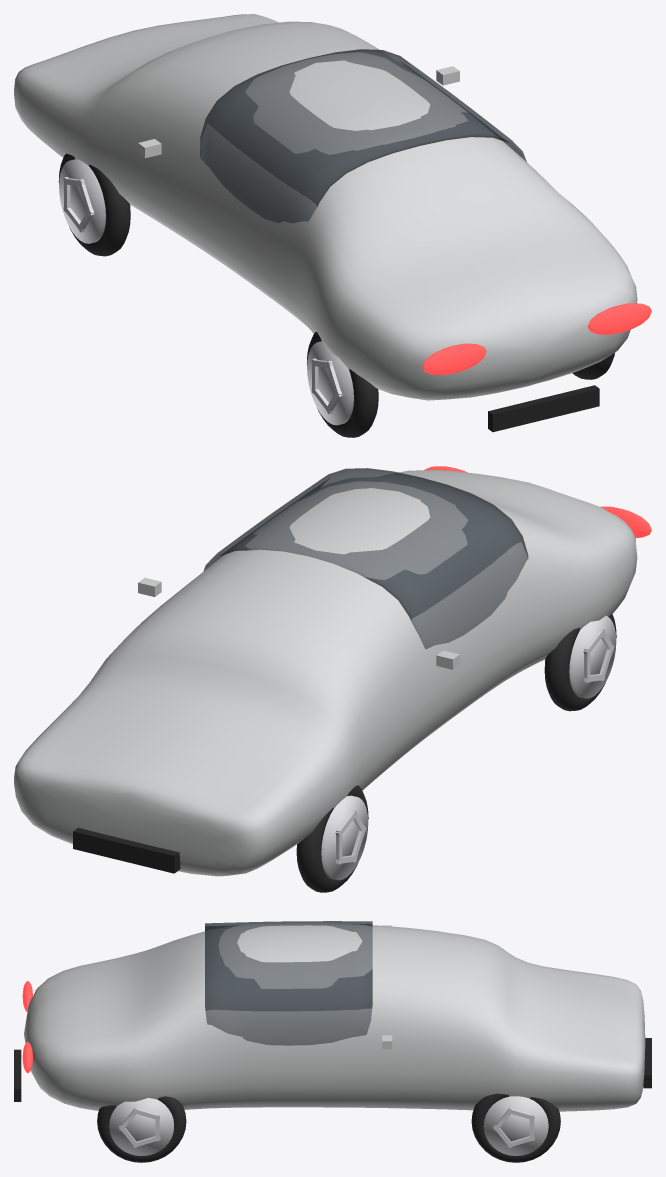
File: bmw_m3_1988.glb
3 views of the same model, one above another, from view 1: azimuth 30°, elevation 25°; view 2: azimuth 150°, elevation 25°; view 3: azimuth 270°, elevation 25° (orthographic). The views are drawn at different scales.
Parts seen in each view (by area): view 1: Body, Glass, Diffuser, Rim_FR, Tyre_FR, Rim_RR, Tyre_RR, Taillight_L, Taillight_R; view 2: Body, Glass, FrontIntake, Rim_FR, Rim_RR, Tyre_RR, Tyre_FR, Taillight_R; view 3: Body, Glass, Rim_FL, Rim_RL, Tyre_FL, Tyre_RL, Diffuser, FrontIntake.
Boxes of the visible parts, x1,y1,x2,y2 form: Body: [14, 14, 637, 400]; Glass: [200, 49, 526, 223]; Diffuser: [488, 385, 599, 432]; Rim_FR: [59, 159, 105, 243]; Tyre_FR: [58, 153, 130, 256]; Rim_RR: [307, 341, 353, 425]; Tyre_RR: [307, 332, 378, 437]; Taillight_L: [588, 303, 651, 334]; Taillight_R: [422, 343, 486, 375]; Body: [14, 470, 637, 876]; Glass: [203, 468, 528, 649]; FrontIntake: [73, 827, 180, 873]; Rim_FR: [321, 795, 368, 880]; Rim_RR: [545, 615, 616, 698]; Tyre_RR: [544, 614, 616, 711]; Tyre_FR: [296, 785, 368, 892]; Taillight_R: [600, 506, 651, 537]; Body: [24, 923, 645, 1111]; Glass: [205, 921, 372, 1045]; Rim_FL: [483, 1096, 548, 1155]; Rim_RL: [109, 1098, 173, 1155]; Tyre_FL: [471, 1093, 560, 1162]; Tyre_RL: [97, 1096, 186, 1162]; Diffuser: [14, 1049, 21, 1101]; FrontIntake: [643, 1038, 651, 1088].
Bounding box in the file's own units: 1.88 × 1.35 × 4.37.
